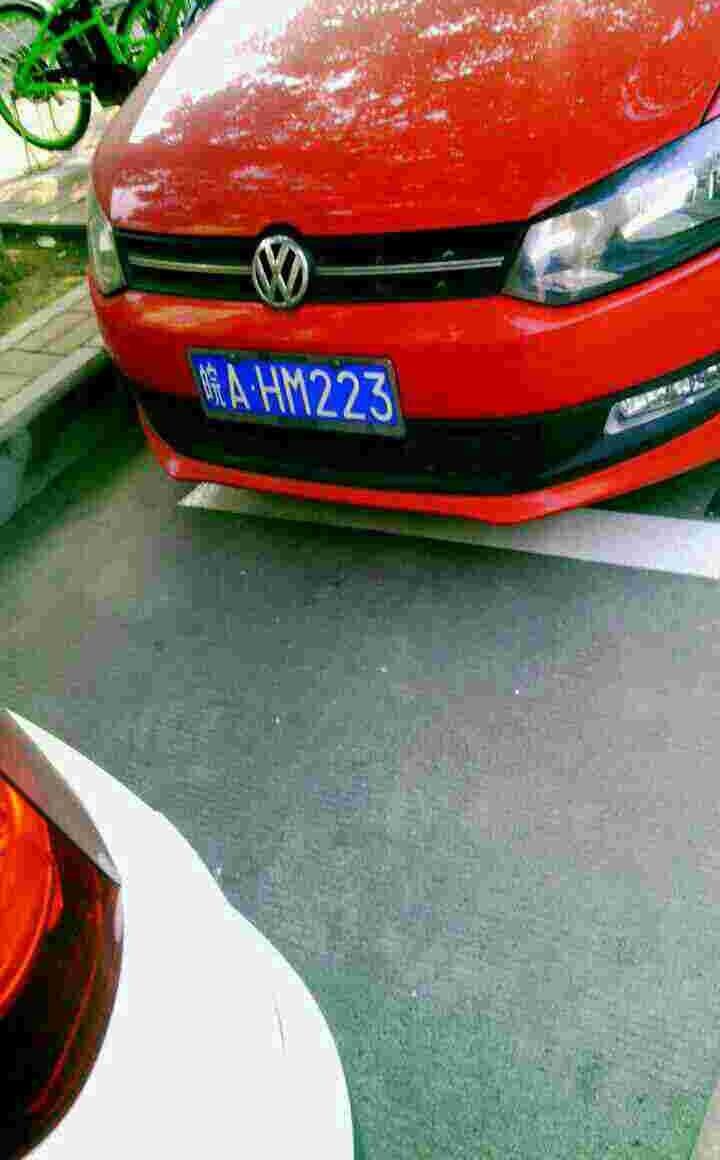license_plate: (193, 359, 397, 427)
